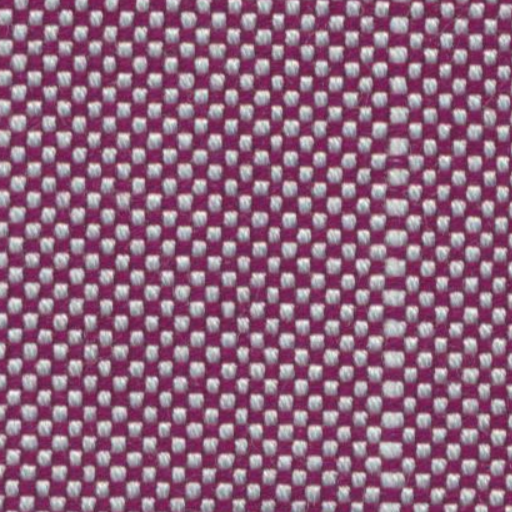TuoSha: (353, 19, 426, 498)
